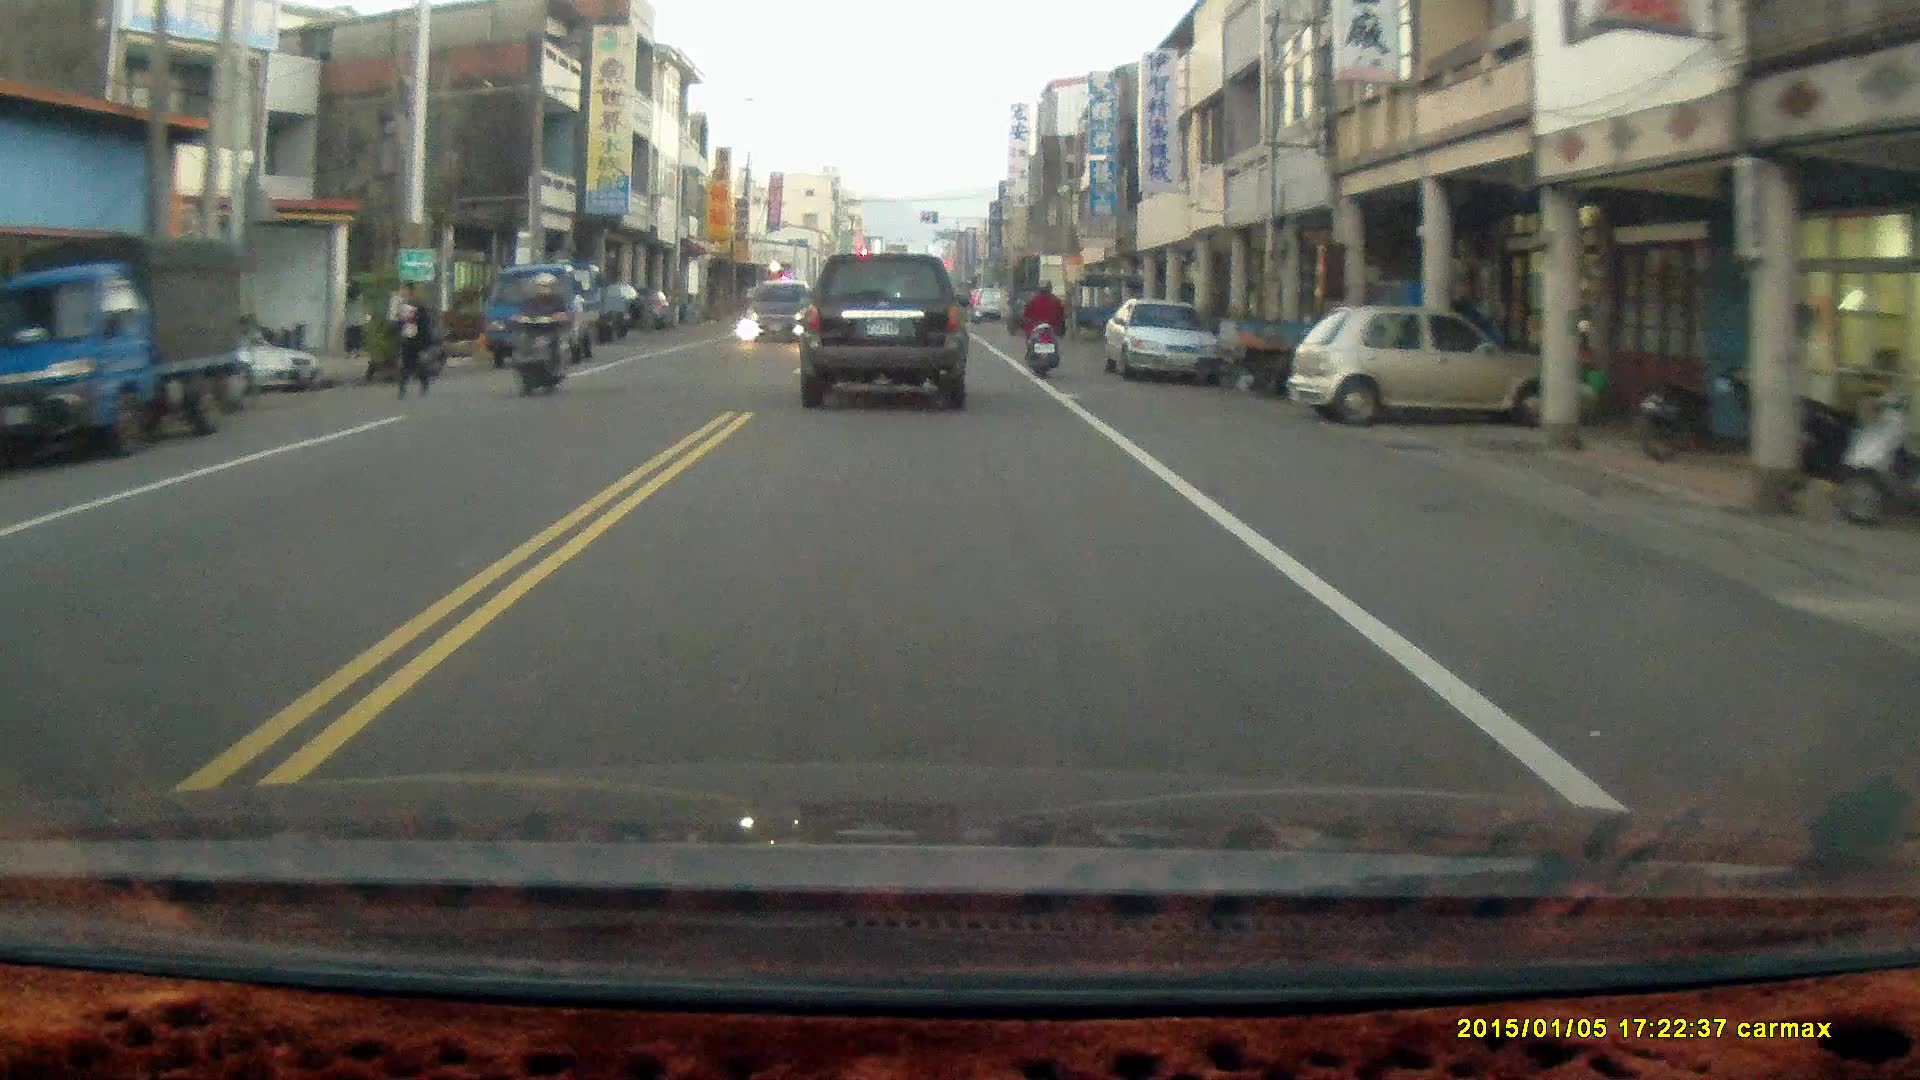pedestrian: (384, 273, 434, 402)
rider: (511, 273, 569, 401), (1022, 273, 1062, 374)
vehicle: (1, 234, 267, 466), (1291, 305, 1566, 424), (795, 250, 972, 413), (486, 265, 627, 367), (171, 317, 318, 397), (1106, 301, 1226, 383), (746, 280, 814, 344)
